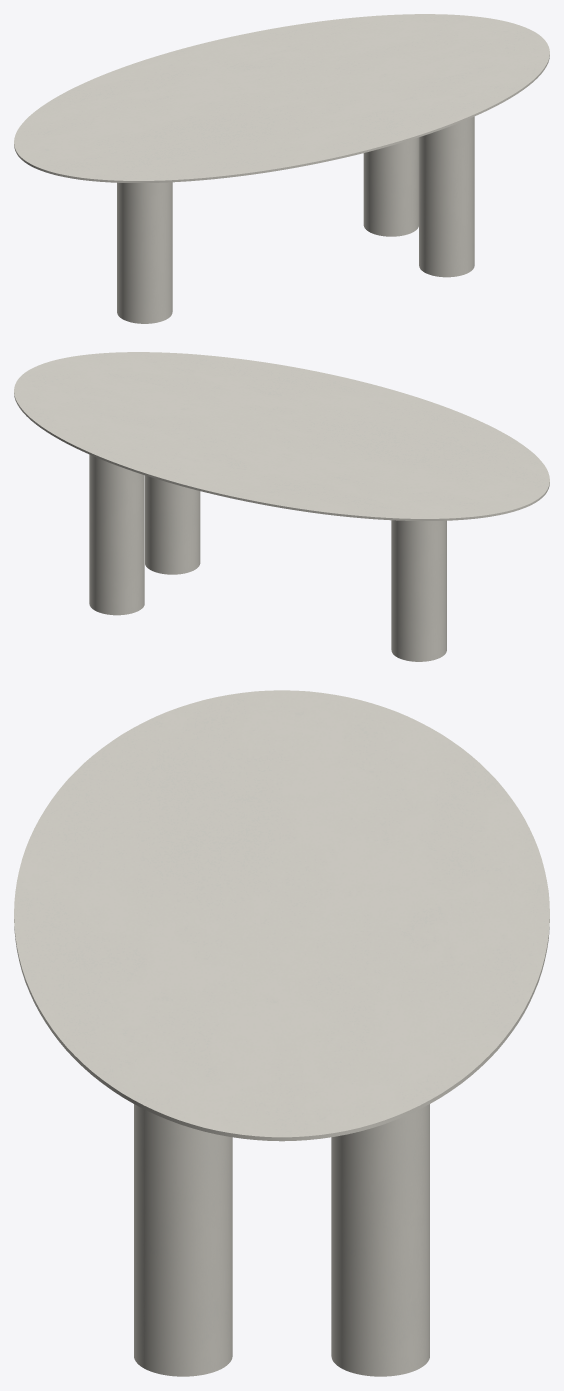
File: pale_ellips_facet_cylinder.glb
3 renders of one model, top to bottom at view 1: azimuth 30°, elevation 25°; view 2: azimuth 150°, elevation 25°; view 3: azimuth 270°, elevation 25°, orthographic. The views are drawn at different scales.
Parts seen in each view (by area): view 1: facet_ellips, cylinder; view 2: facet_ellips, cylinder; view 3: facet_ellips, cylinder.
Boxes of the visible parts, bbox=[...] form: facet_ellips: bbox=[14, 14, 549, 182]; cylinder: bbox=[117, 116, 474, 323]; facet_ellips: bbox=[14, 352, 549, 521]; cylinder: bbox=[89, 454, 446, 661]; facet_ellips: bbox=[14, 690, 549, 1141]; cylinder: bbox=[134, 1104, 429, 1376].
Size of the model in its own units: 7.5 by 2.53 by 3.8.
1 material, 1 textured.
